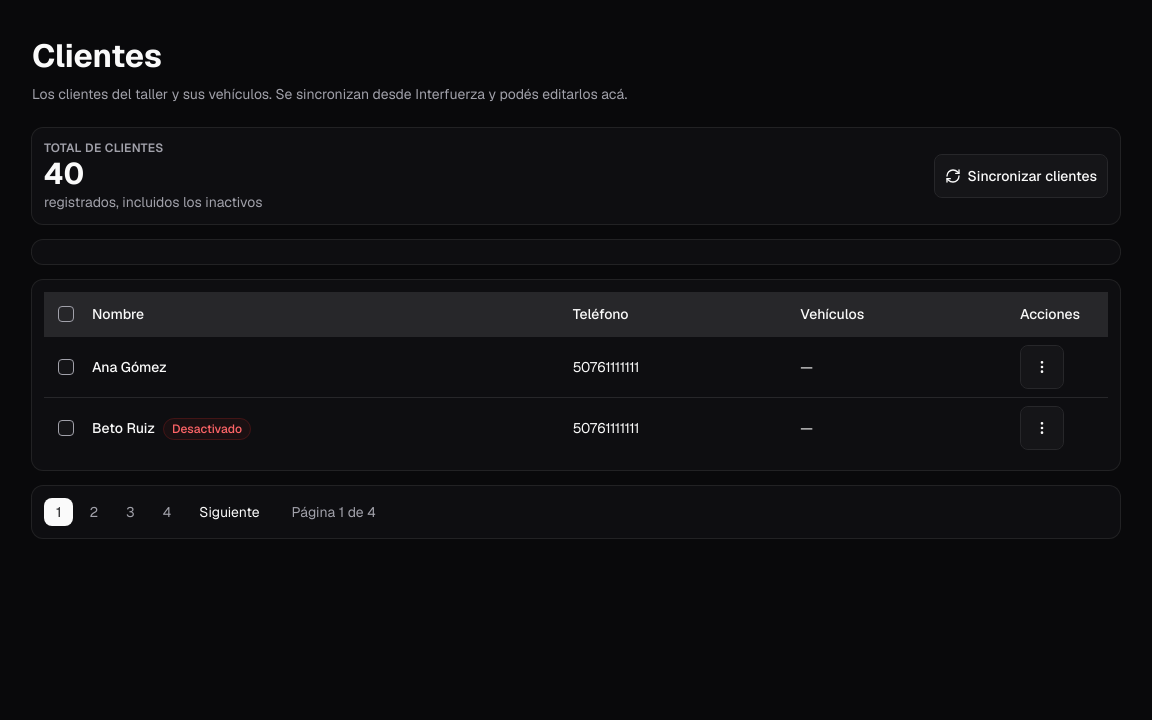
it: CustomersPage — bulk activar/desactivar (WU5) › counts an already-deactivated row as applied and lists no failure
The width and height of the screenshot is (1152, 720).
What coordinates should you click on to do the following:
click the checkbox named "Seleccionar Ana Gómez"
I would click on:
 (66, 367)
Its box is [58,359,74,375].
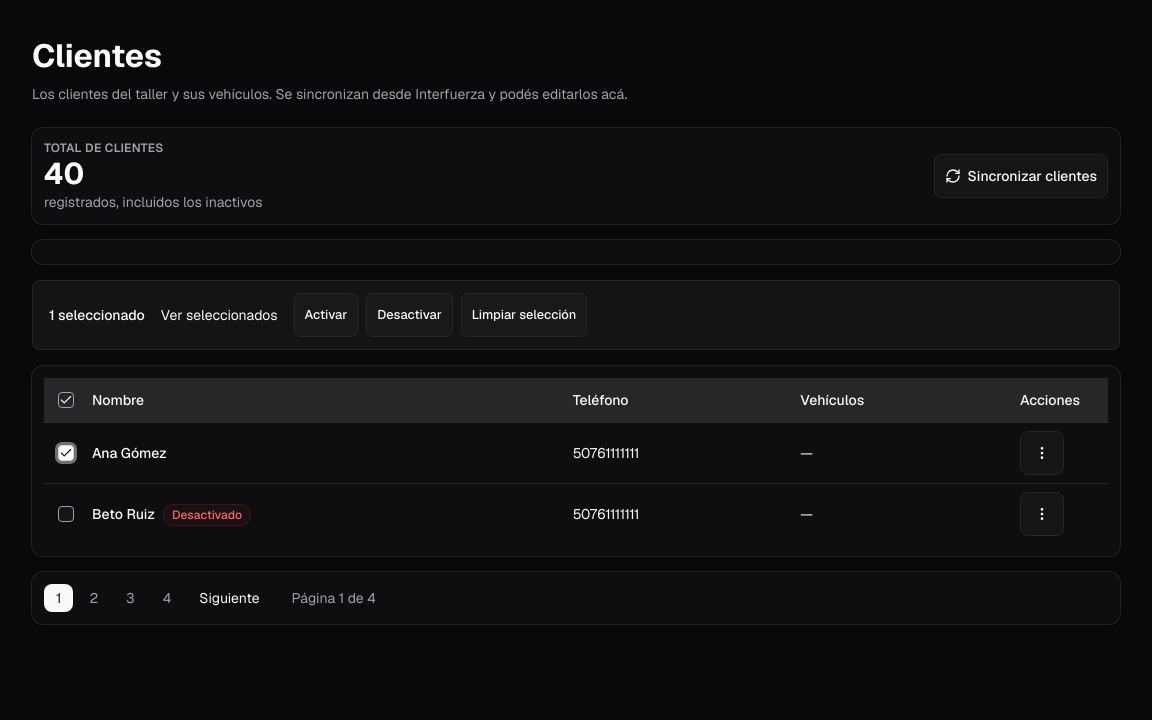
What coordinates should you click on to do the following:
click the checkbox named "Seleccionar Beto Ruiz"
I would click on:
 (66, 514)
Its box is [58,506,74,522].
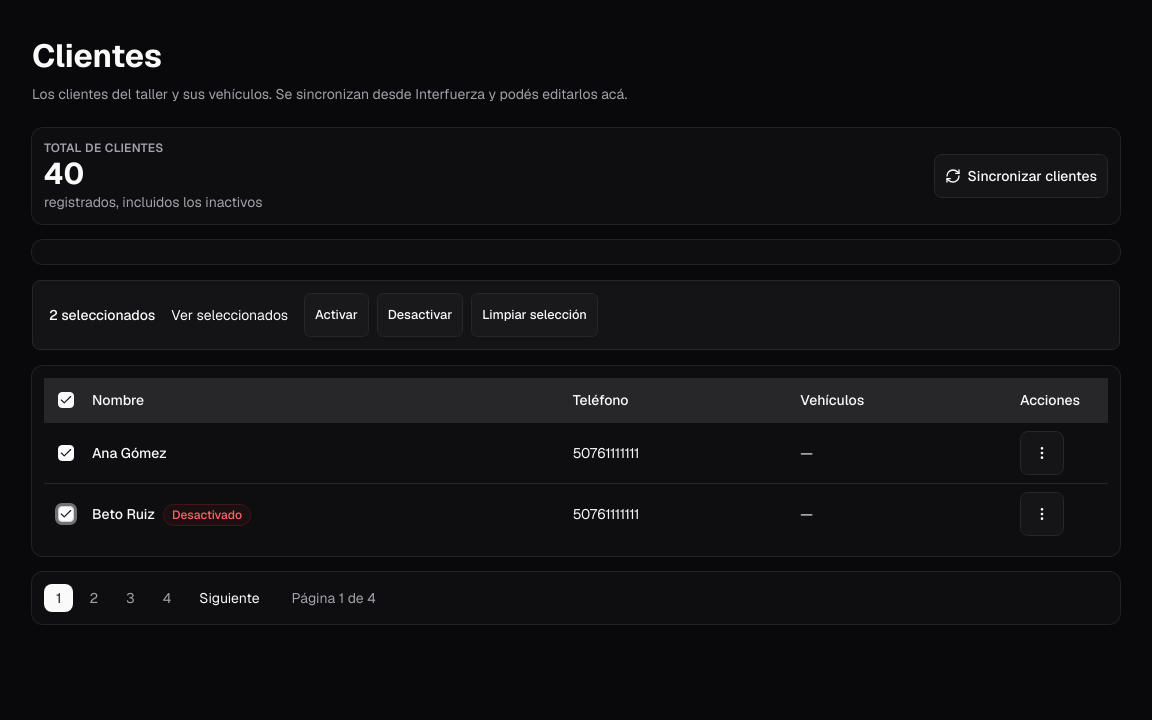
What coordinates should you click on to do the following:
click the button "Desactivar"
I would click on:
 (420, 315)
Its box is [377,293,463,337].
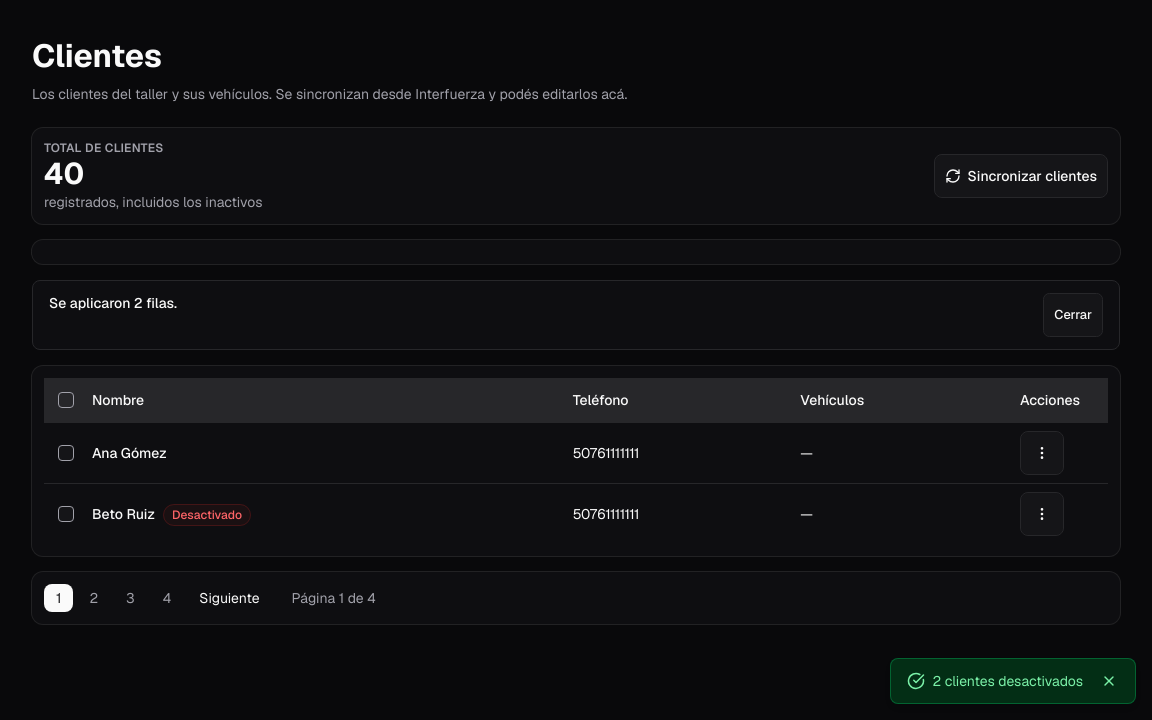
Result: the text "Se aplicaron 2 filas. Cerrar" is shown at [32,280,1120,350]
